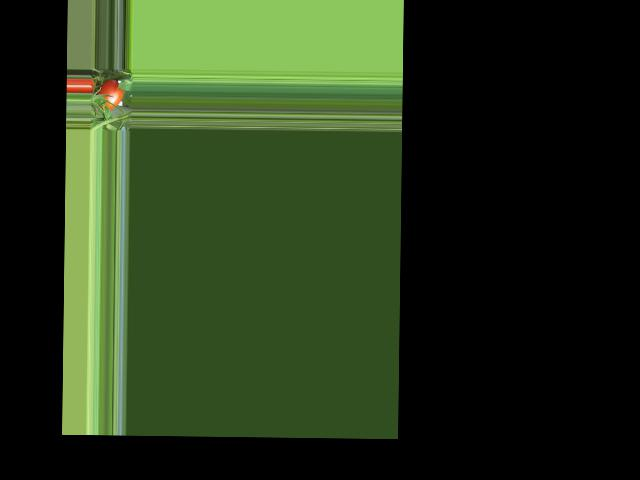tomato: (97, 79, 124, 109)
